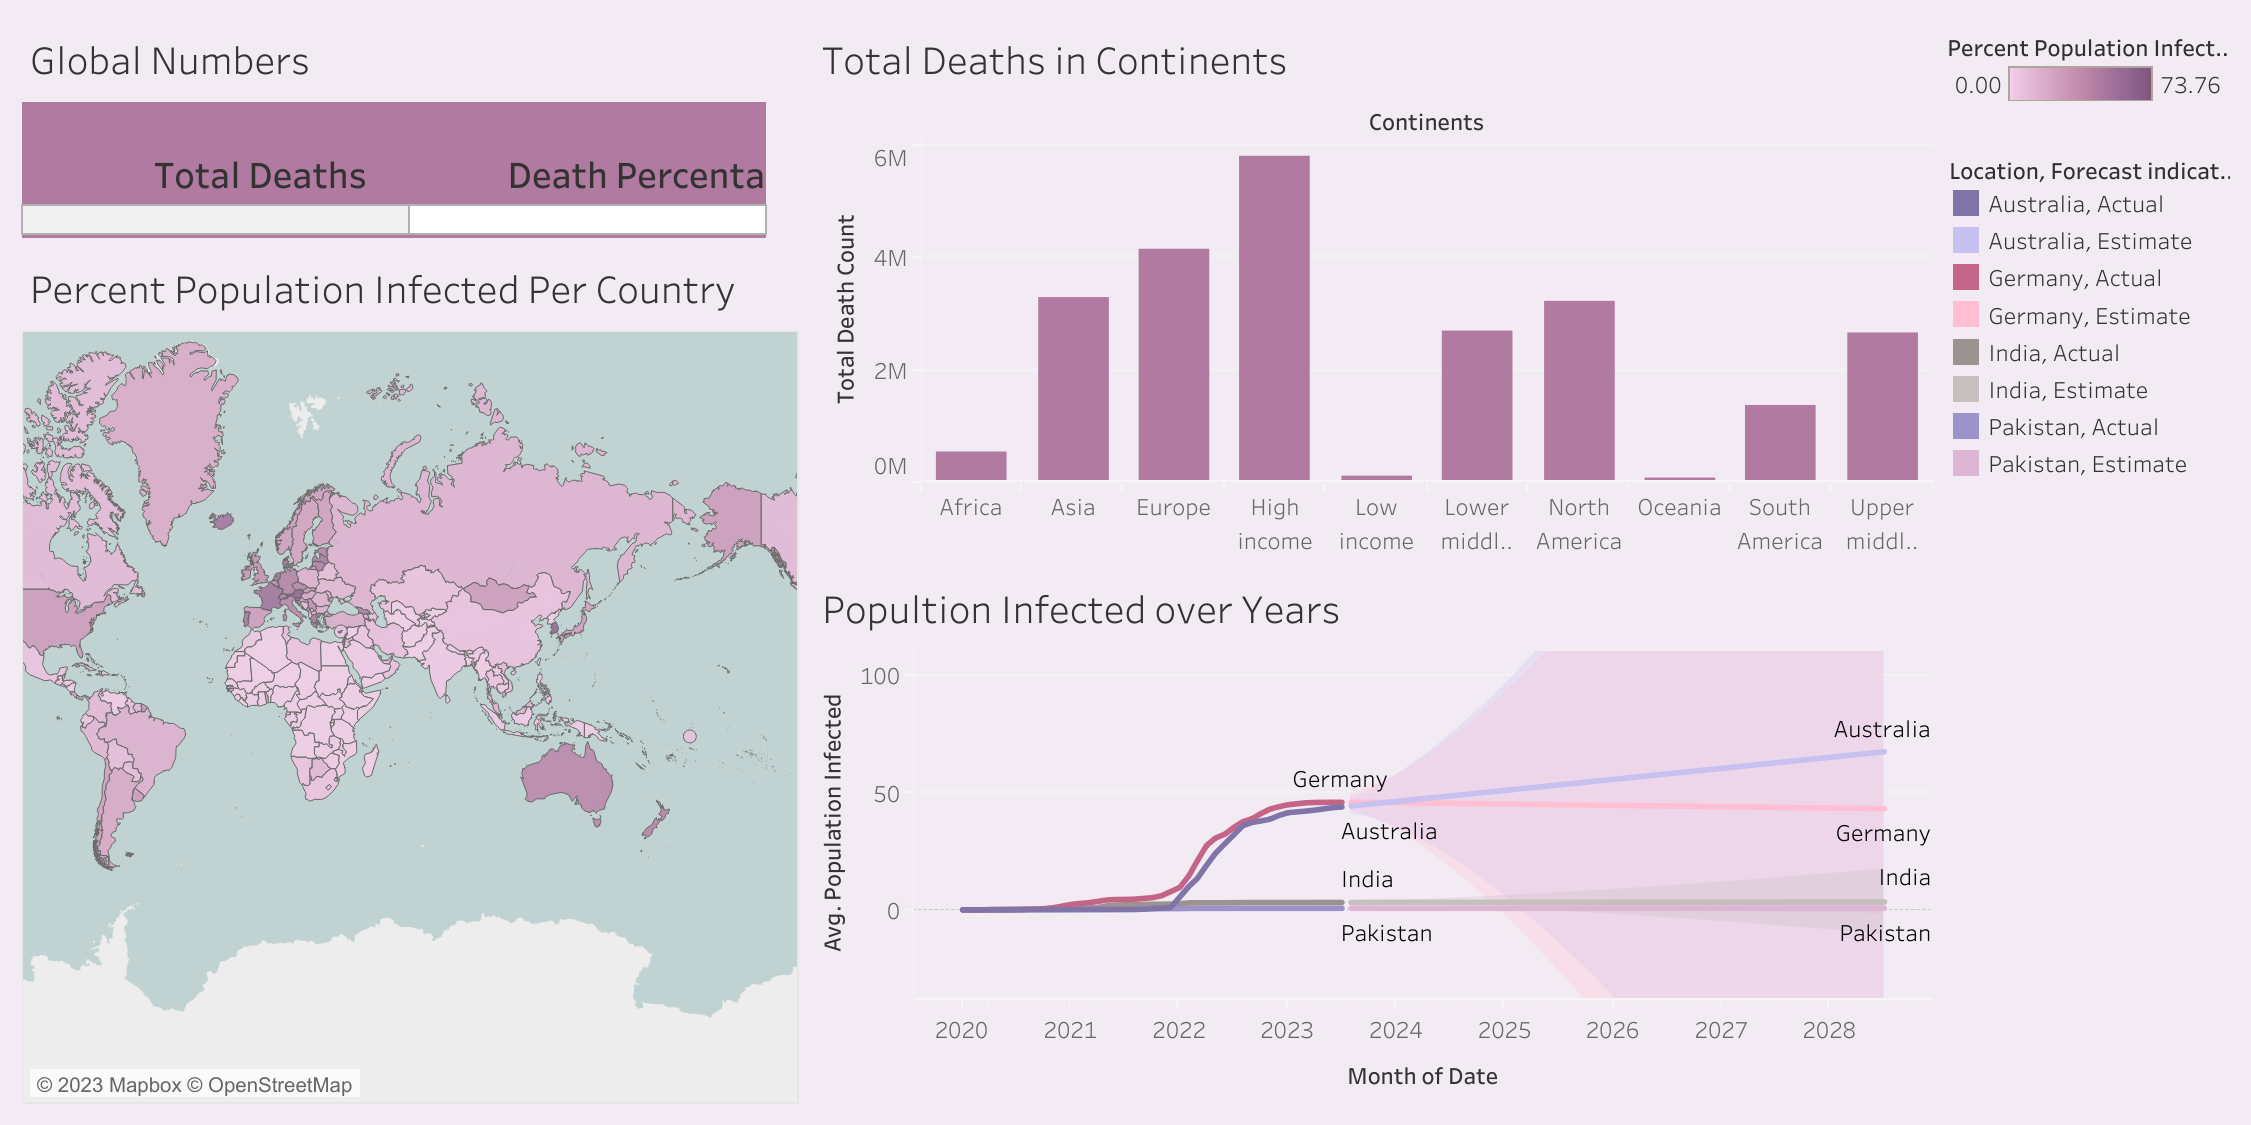

Layout of this report page (visuals, bound fields, positions):
{"tool":"tableau","page":{"name":"Dashboard 1","canvas":[1000,1000],"units":"permille","ordinal":0},"visuals":[{"type":"worksheet","title":"Sheet 1","mark":"Automatic","box":[3.8,6.1,376.7,205.1]},{"type":"worksheet","title":"Sheet 2","mark":"Automatic","rows":["TotalDeathCount"],"cols":["location"],"box":[380.5,6.1,538.9,493.9]},{"type":"legend","title":"Sheet 3","param":"[federated.13ufnir1n0ss941gs63c80v8cdib].[sum:PercentPopulationInfected:qk]","box":[919.4,6.1,76.8,61.3]},{"type":"legend","title":"Sheet 4","param":"[federated.0skykh01bwfh421gu6tcs0ez3bjj].[none:location:nk]\n[federated.0skykh01b","box":[919.4,67.4,76.8,177.1]},{"type":"worksheet","title":"Sheet 3","mark":"Automatic","box":[3.8,211.2,376.7,782.7]},{"type":"worksheet","title":"Sheet 4","mark":"Automatic","rows":["PopulationInfected"],"cols":["date"],"box":[380.5,500,538.9,493.9]}]}

Visuals, with their boxes on the dashboard's canvas, which has no fixed pixel size, in thousandths of its width and height (x1, y1, x2, y2). These are canvas units, not pixel positions in the 2251x1125 screenshot, which may show the page scaled, cropped or inside an application window:
"Sheet 1" worksheet: locate(4, 6, 380, 211)
"Sheet 2" worksheet: locate(380, 6, 919, 500)
"Sheet 3" legend: locate(919, 6, 996, 67)
"Sheet 4" legend: locate(919, 67, 996, 244)
"Sheet 3" worksheet: locate(4, 211, 380, 994)
"Sheet 4" worksheet: locate(380, 500, 919, 994)
